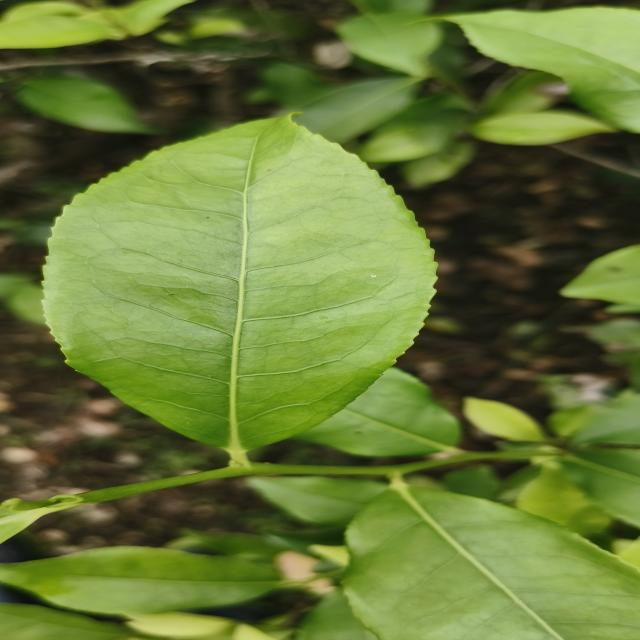Leaf: (43, 117, 436, 464), (343, 484, 640, 640), (443, 7, 640, 132), (0, 547, 279, 616), (296, 368, 461, 457), (295, 77, 418, 143), (15, 76, 155, 133), (247, 476, 386, 527), (337, 12, 442, 78), (361, 97, 466, 162), (562, 443, 640, 528), (471, 110, 614, 146), (560, 245, 640, 304), (462, 397, 546, 442), (0, 15, 109, 48)
